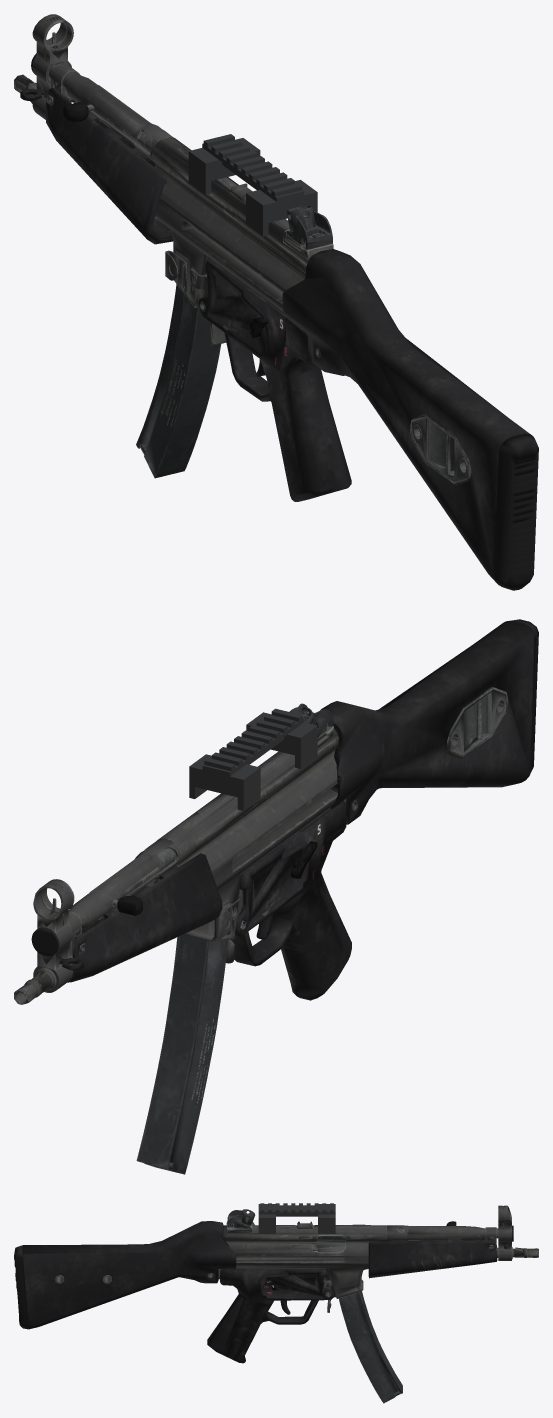
The model's file is mp5-world.glb.
The picture shows the model from 3 angles, top to bottom: view 1: azimuth 30°, elevation 25°; view 2: azimuth 150°, elevation 25°; view 3: azimuth 270°, elevation 25°; orthographic projection. The views are drawn at different scales.
Parts seen in each view (by area): view 1: GunGeometry, MagazineGeometry, OpticMountGeometry, FrontSightGeometry, RearSightGeometry; view 2: GunGeometry, MagazineGeometry, OpticMountGeometry, FrontSightGeometry, RearSightGeometry; view 3: GunGeometry, MagazineGeometry, OpticMountGeometry, FrontSightGeometry, RearSightGeometry.
Boxes of the visible parts, left/top/right/bottom form: GunGeometry: left=14, top=53, right=538, bottom=590; MagazineGeometry: left=136, top=284, right=221, bottom=478; OpticMountGeometry: left=188, top=134, right=317, bottom=236; FrontSightGeometry: left=32, top=14, right=73, bottom=119; RearSightGeometry: left=286, top=206, right=332, bottom=249; GunGeometry: left=14, top=619, right=538, bottom=1004; MagazineGeometry: left=136, top=935, right=228, bottom=1174; OpticMountGeometry: left=189, top=708, right=317, bottom=810; FrontSightGeometry: left=33, top=879, right=74, bottom=992; RearSightGeometry: left=289, top=703, right=333, bottom=737; GunGeometry: left=14, top=1221, right=538, bottom=1363; MagazineGeometry: left=339, top=1291, right=402, bottom=1403; OpticMountGeometry: left=258, top=1203, right=335, bottom=1233; FrontSightGeometry: left=498, top=1205, right=511, bottom=1260; RearSightGeometry: left=227, top=1209, right=255, bottom=1227.
Bounding box in the file's own units: 0.1212 × 0.5492 × 1.35.
6 materials, 5 textured.
